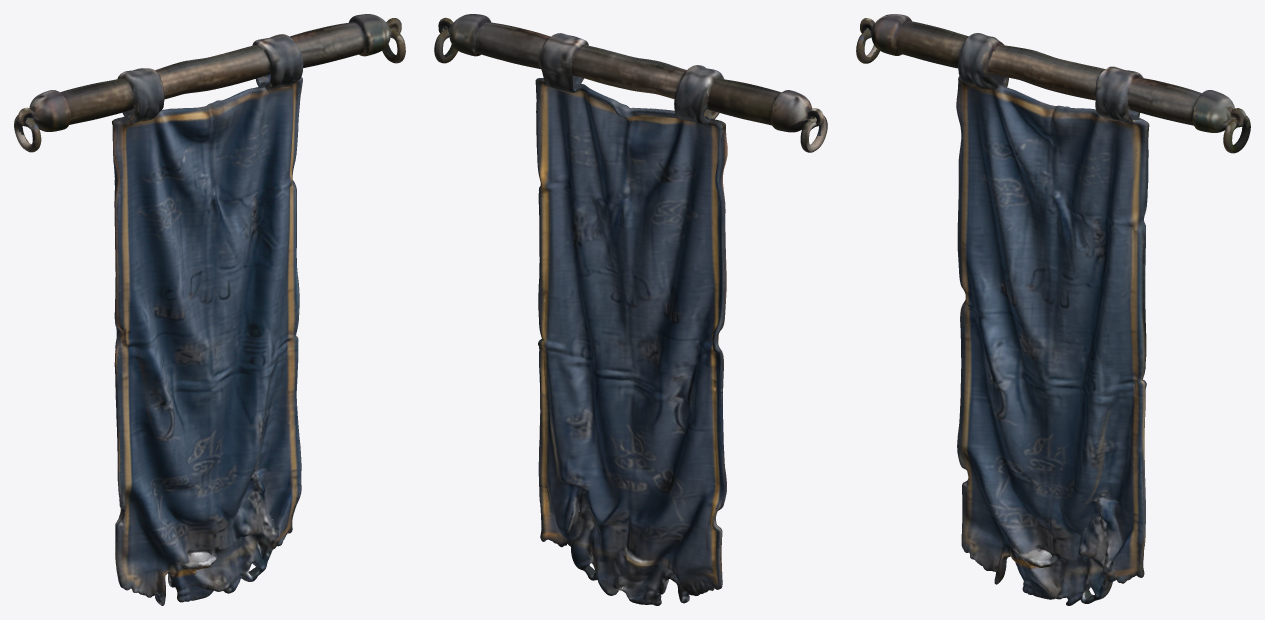
The model's file is S1-07_banner_A.glb.
3 views of the same model, side by side, from view 1: azimuth 30°, elevation 25°; view 2: azimuth 150°, elevation 25°; view 3: azimuth 330°, elevation 25° (orthographic).
Visible parts, largest first — view 1: geometry_0; view 2: geometry_0; view 3: geometry_0.
Boxes of the visible parts, x1,y1,x2,y2 form: geometry_0: (14, 14, 405, 605); geometry_0: (434, 14, 827, 605); geometry_0: (856, 14, 1250, 605).
Size of the model in its own units: 2.07 by 2.8 by 0.247.
1 material, 1 textured.
